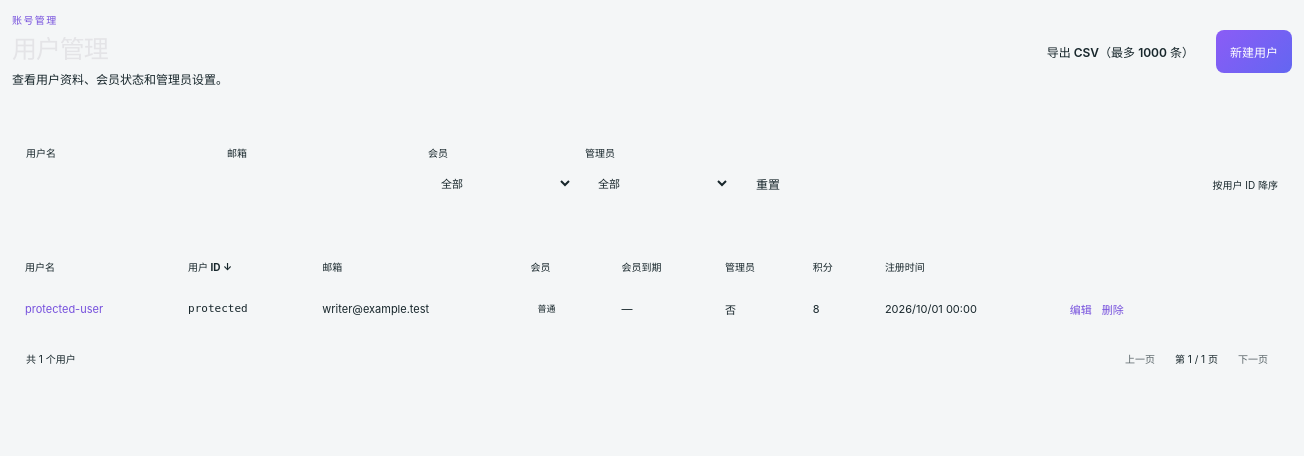
Scenario: admin users views › reports a protected delete as explicitly rejected without retrying
expect the button "protected-user" is shown: met, box [25,302,103,316]
Click the button with aria-label "删除用户 protected-user" at (1113, 309), box [1102,301,1124,317]
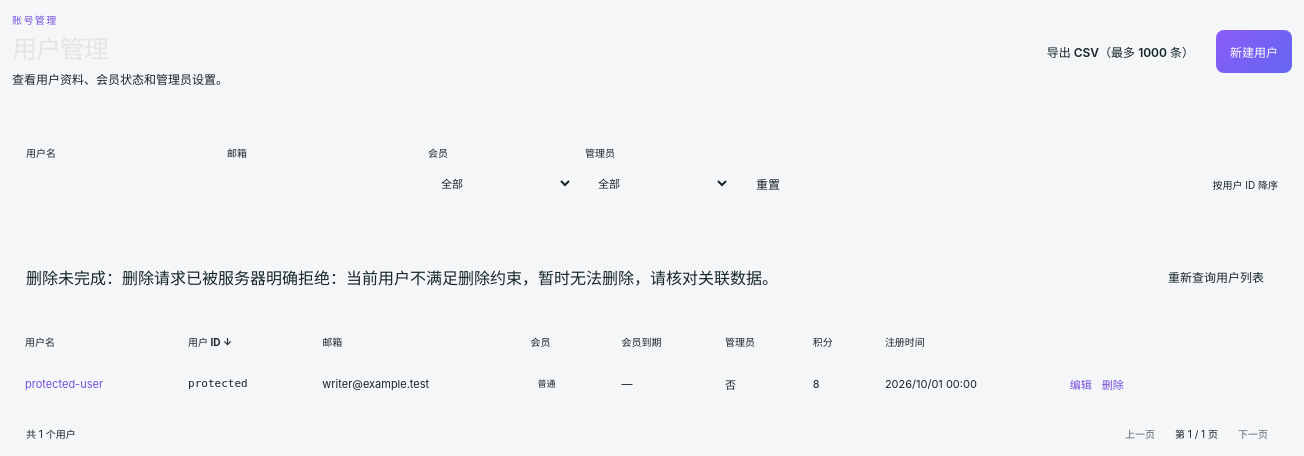
expect the message does not show "删除结果未确认": met, box [26,259,1278,294]
expect the message shows "删除请求已被服务器明确拒绝": met, box [122,268,778,288]
expect the message shows "当前用户不满足删除约束，暂时无法删除，请核对关联数据。": met, box [122,268,778,288]
